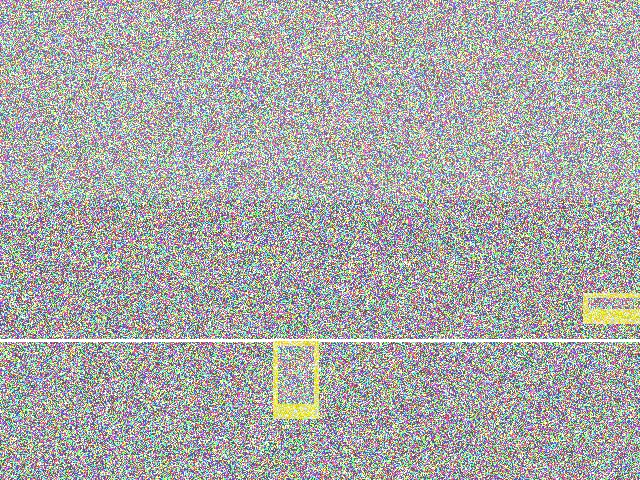bus: (426, 189, 615, 317)
